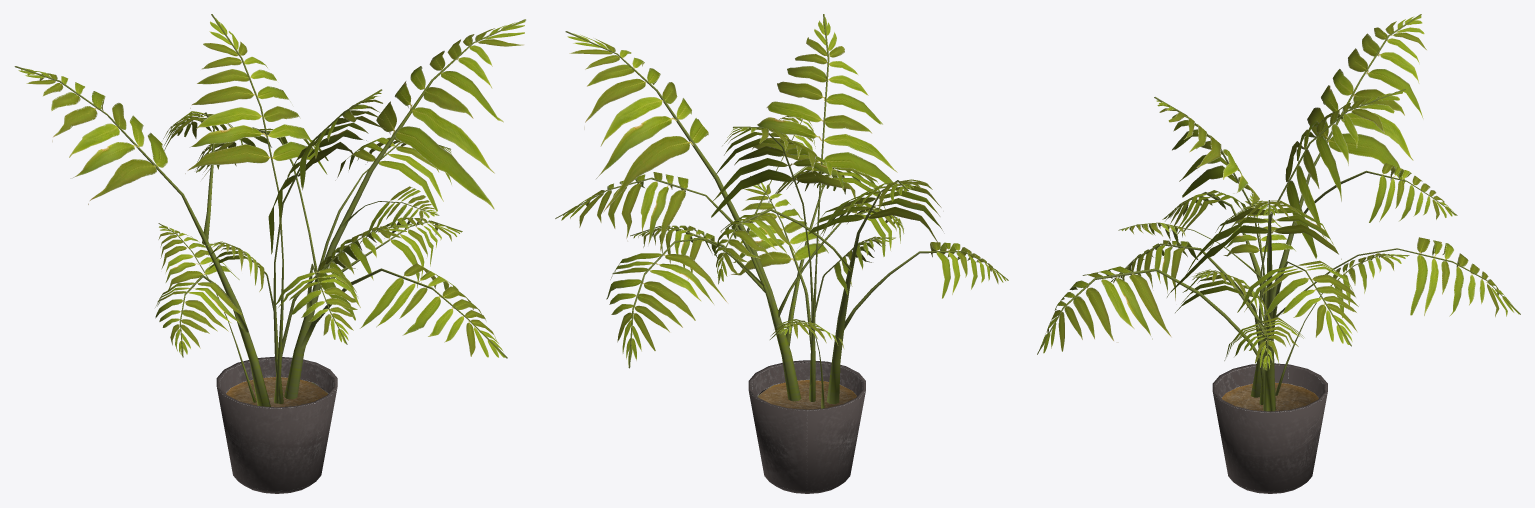
File: Chamadorea.FBX
The picture shows the model from 3 angles, left to right: view 1: azimuth 30°, elevation 25°; view 2: azimuth 150°, elevation 25°; view 3: azimuth 270°, elevation 25°; orthographic projection. The views are drawn at different scales.
Parts seen in each view (by area): view 1: chamadorea, Line001, Object002, Line004, Rectangle005, Object003, Rectangle006, Rectangle007, Line005, Rectangle004, Object001, Rectangle009 (+4 smaller); view 2: chamadorea, Line001, Object003, Object002, Rectangle003, Line004, Rectangle004, Line005, Rectangle008, Rectangle006, Rectangle005, Rectangle009 (+4 smaller); view 3: chamadorea, Line004, Rectangle005, Object002, Line001, Rectangle004, Object003, Rectangle003, Rectangle008, Rectangle007, Rectangle009, Rectangle006 (+4 smaller).
Part boxes in pixels (bbox=[...]): chamadorea: bbox=[216, 356, 337, 493]; Line001: bbox=[284, 19, 525, 399]; Object002: bbox=[185, 14, 327, 403]; Line004: bbox=[14, 66, 270, 406]; Rectangle005: bbox=[300, 263, 507, 358]; Object003: bbox=[268, 89, 386, 403]; Rectangle006: bbox=[155, 274, 248, 357]; Rectangle007: bbox=[274, 263, 358, 344]; Line005: bbox=[277, 223, 412, 361]; Rectangle004: bbox=[312, 137, 451, 289]; Object001: bbox=[158, 223, 256, 402]; Rectangle009: bbox=[321, 217, 462, 287]; chamadorea: bbox=[748, 360, 865, 493]; Line001: bbox=[565, 31, 801, 401]; Object003: bbox=[752, 14, 898, 399]; Object002: bbox=[711, 126, 857, 401]; Rectangle003: bbox=[606, 253, 728, 365]; Line004: bbox=[801, 179, 944, 404]; Rectangle004: bbox=[555, 172, 773, 315]; Line005: bbox=[731, 176, 828, 358]; Rectangle008: bbox=[714, 208, 851, 284]; Rectangle006: bbox=[838, 242, 1008, 337]; Rectangle005: bbox=[761, 162, 885, 346]; Rectangle009: bbox=[630, 225, 765, 292]; chamadorea: bbox=[1212, 363, 1327, 493]; Line004: bbox=[1250, 14, 1426, 397]; Rectangle005: bbox=[1037, 266, 1270, 377]; Object002: bbox=[1259, 89, 1405, 382]; Line001: bbox=[1167, 200, 1344, 411]; Rectangle004: bbox=[1237, 260, 1358, 346]; Object003: bbox=[1154, 97, 1266, 404]; Rectangle003: bbox=[1410, 237, 1519, 317]; Rectangle008: bbox=[1295, 163, 1457, 224]; Rectangle007: bbox=[1110, 240, 1265, 339]; Rectangle009: bbox=[1224, 317, 1304, 370]; Rectangle006: bbox=[1162, 190, 1266, 308].
Size of the model in its own units: 289 by 292 by 268.
